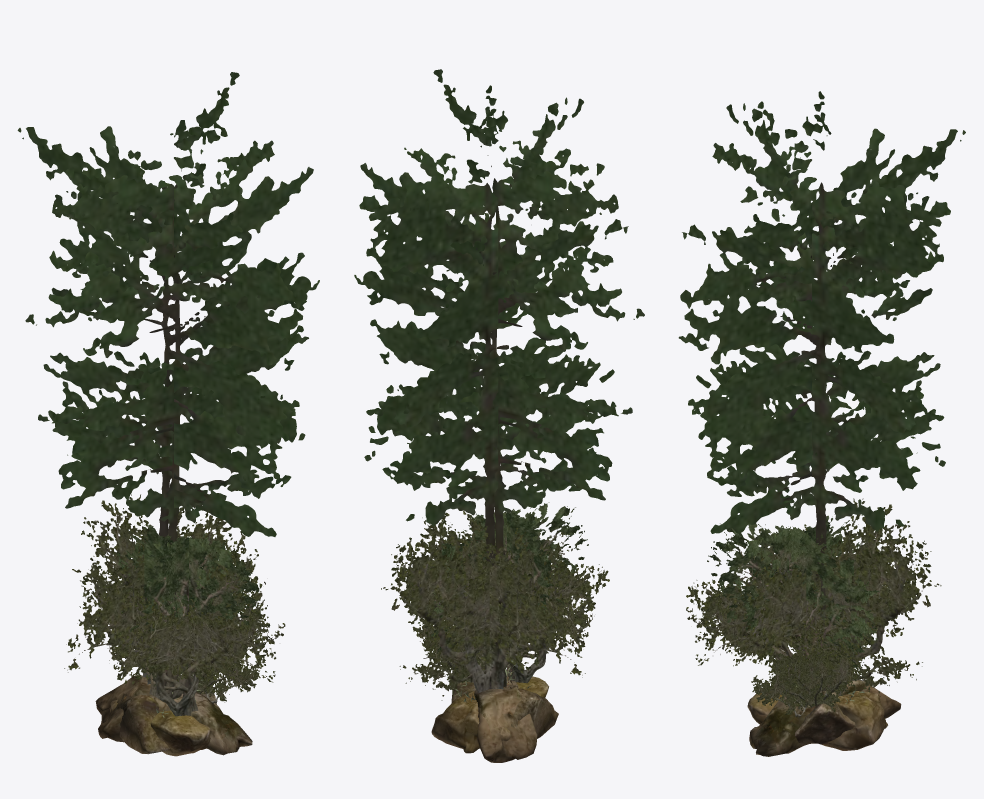
File: nature.glb
3 renders of one model, left to right at view 1: azimuth 30°, elevation 25°; view 2: azimuth 150°, elevation 25°; view 3: azimuth 270°, elevation 25°, orthographic.
Parts seen in each view (by area): view 1: pine_b, island_tree_02, island_tree_01, tree_small, rock_moss_set_01_rock02, rock_moss_set_01_rock03, rock_moss_set_01_rock05, island_tree_03; view 2: pine_b, island_tree_01, tree_small, island_tree_02, rock_moss_set_01_rock02, rock_moss_set_01_rock05, rock_moss_set_01_rock03, island_tree_03; view 3: pine_b, island_tree_01, tree_small, island_tree_03, island_tree_02, rock_moss_set_01_rock05, rock_moss_set_01_rock02, rock_moss_set_01_rock03.
Boxes of the visible parts, x1,y1,x2,y2 form: pine_b: (17, 72, 319, 690); island_tree_02: (92, 568, 285, 716); island_tree_01: (64, 494, 259, 684); tree_small: (116, 525, 259, 697); rock_moss_set_01_rock02: (95, 675, 252, 755); rock_moss_set_01_rock03: (116, 691, 219, 754); rock_moss_set_01_rock05: (109, 699, 210, 756); island_tree_03: (177, 635, 261, 703); pine_b: (354, 69, 644, 687); island_tree_01: (381, 510, 585, 700); tree_small: (418, 502, 588, 681); island_tree_02: (435, 559, 609, 683); rock_moss_set_01_rock02: (473, 678, 537, 762); rock_moss_set_01_rock05: (431, 676, 548, 753); rock_moss_set_01_rock03: (451, 682, 558, 738); island_tree_03: (412, 617, 506, 690); pine_b: (678, 91, 965, 691); island_tree_01: (735, 498, 941, 696); tree_small: (707, 514, 879, 668); island_tree_03: (751, 617, 870, 717); island_tree_02: (686, 575, 860, 692); rock_moss_set_01_rock05: (747, 691, 887, 750); rock_moss_set_01_rock02: (749, 680, 901, 756); rock_moss_set_01_rock03: (795, 689, 855, 745).
Size of the model in its own units: 7.23 by 15.38 by 6.29.
Materials: 14 (14 with a texture image).
